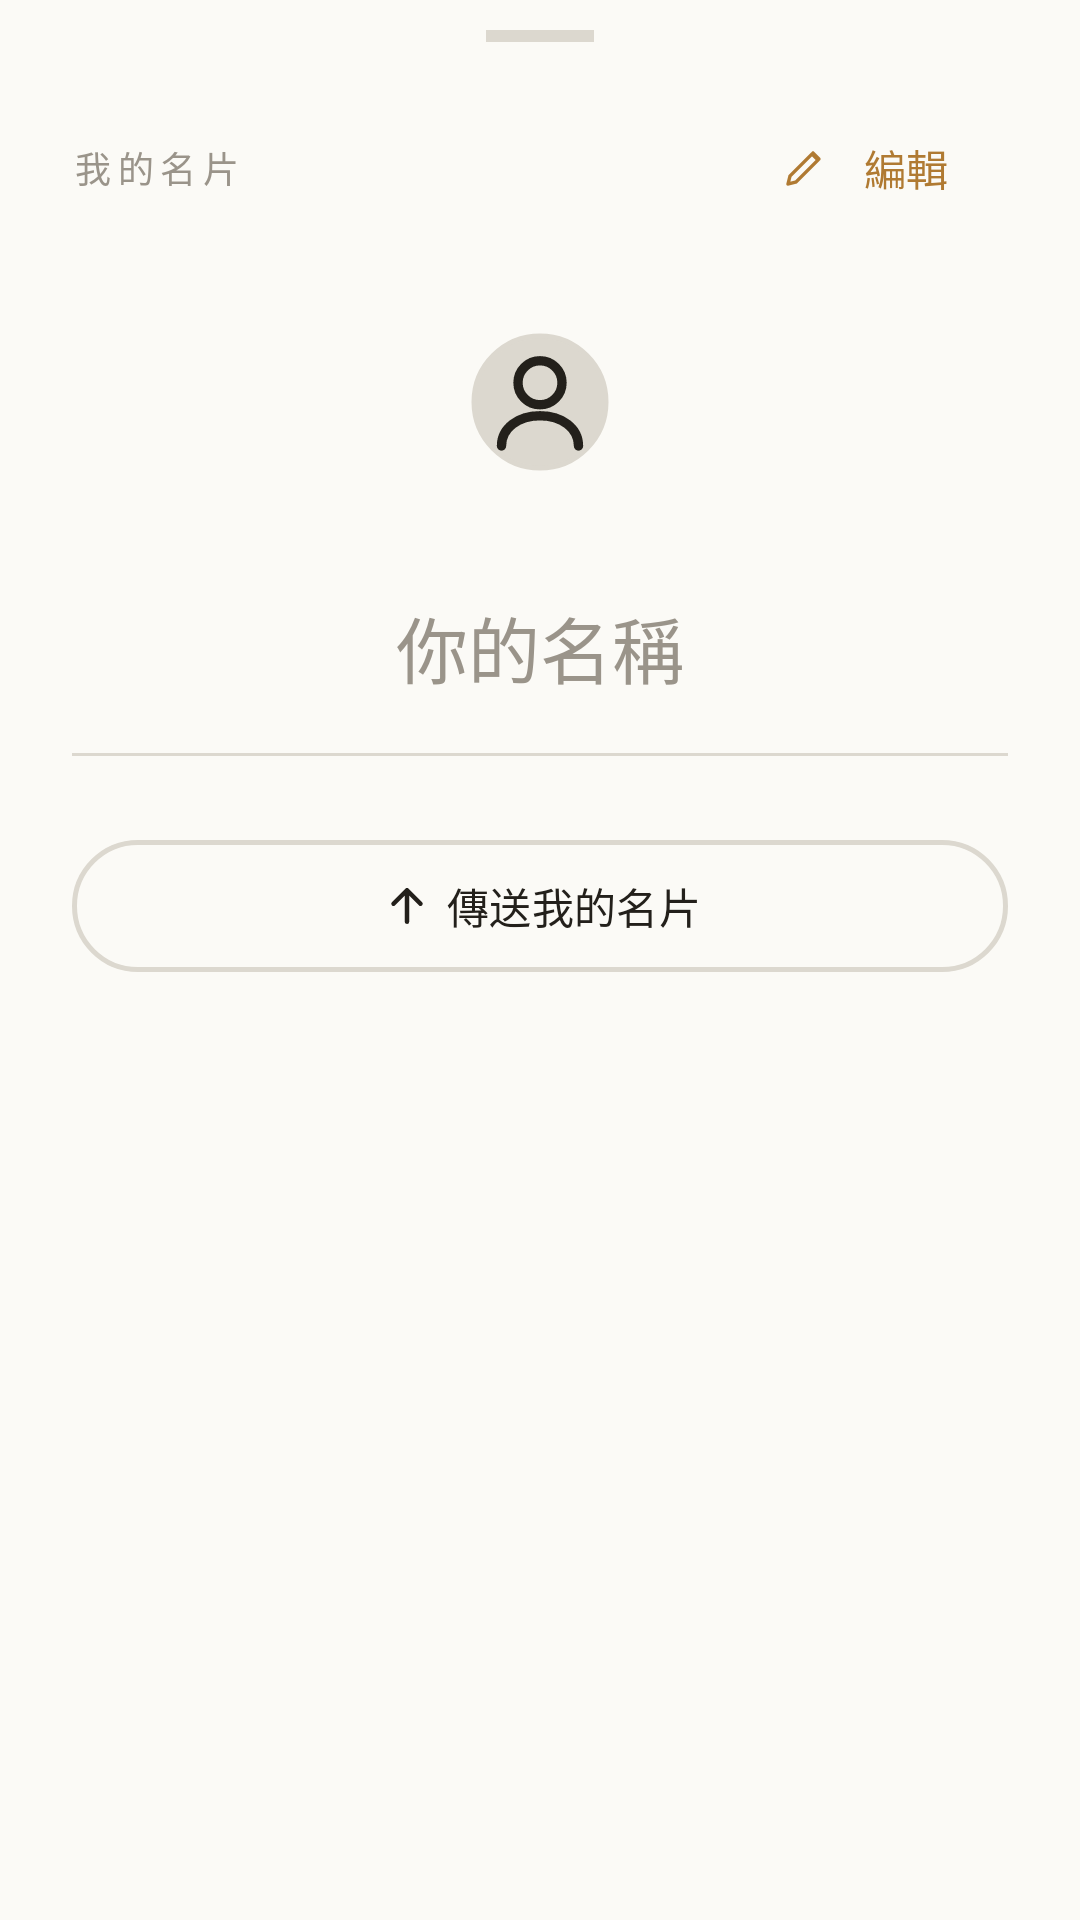

Icons on this 1080x1920 Android screen, each with its box as (x1, y1, x2, y2):
person: (472, 334, 608, 470)
